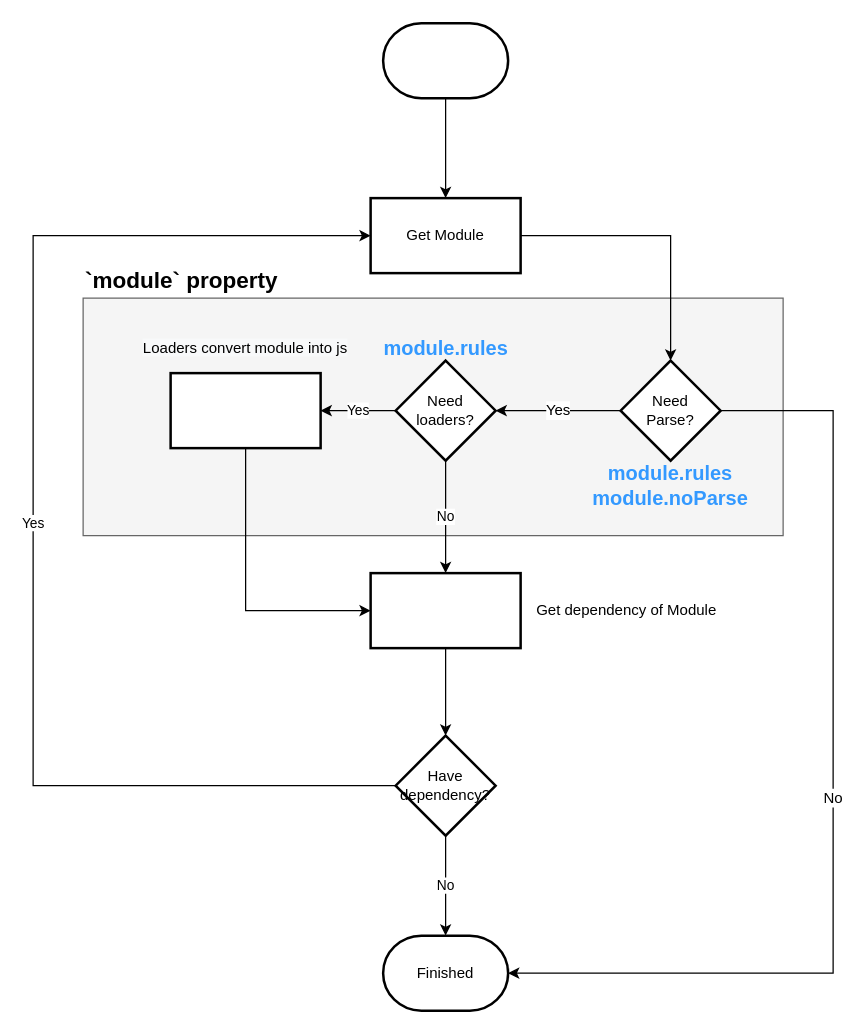
Some shapes in this 865 by 1033 pixel diagram are drawn without their labels. The shapes that lost their labels are listed below. From the top down, each one's centre as x and y in pixels, then its label:
At (x=445, y=60): "Start Compilation".
At (x=245, y=410): "Loaders".
At (x=445, y=610): "Parser".
